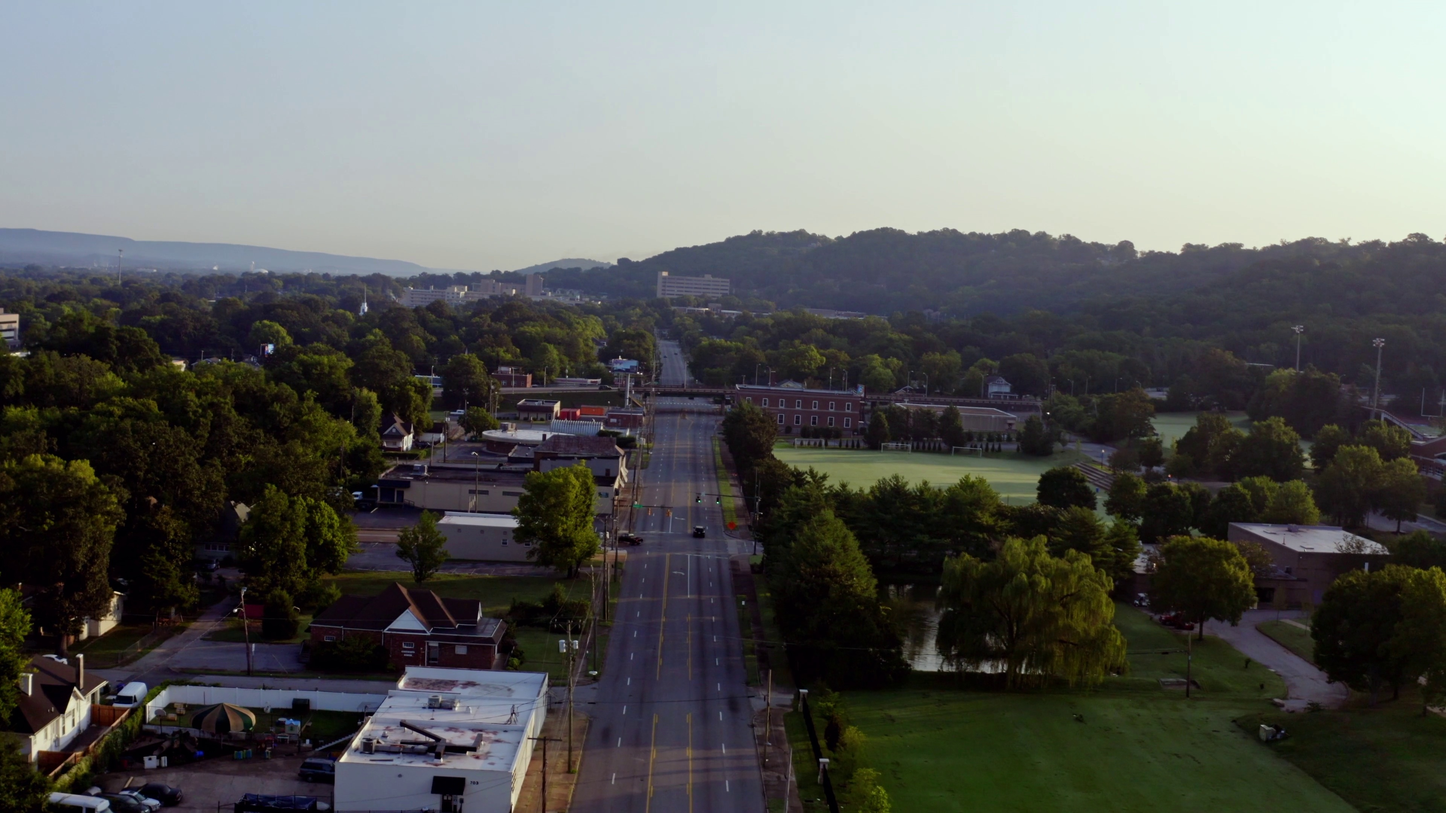Vehicle: (44, 792, 111, 813), (140, 782, 183, 806), (112, 681, 148, 709), (118, 790, 161, 813), (298, 757, 335, 783), (0, 313, 21, 352), (1158, 611, 1195, 631), (618, 533, 643, 546), (42, 654, 68, 665), (693, 525, 705, 538), (598, 385, 612, 391), (663, 355, 667, 358)
